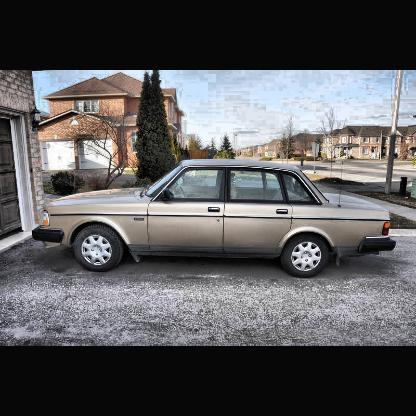Volvo 240 Sedan 1993: (30, 156, 401, 280)
